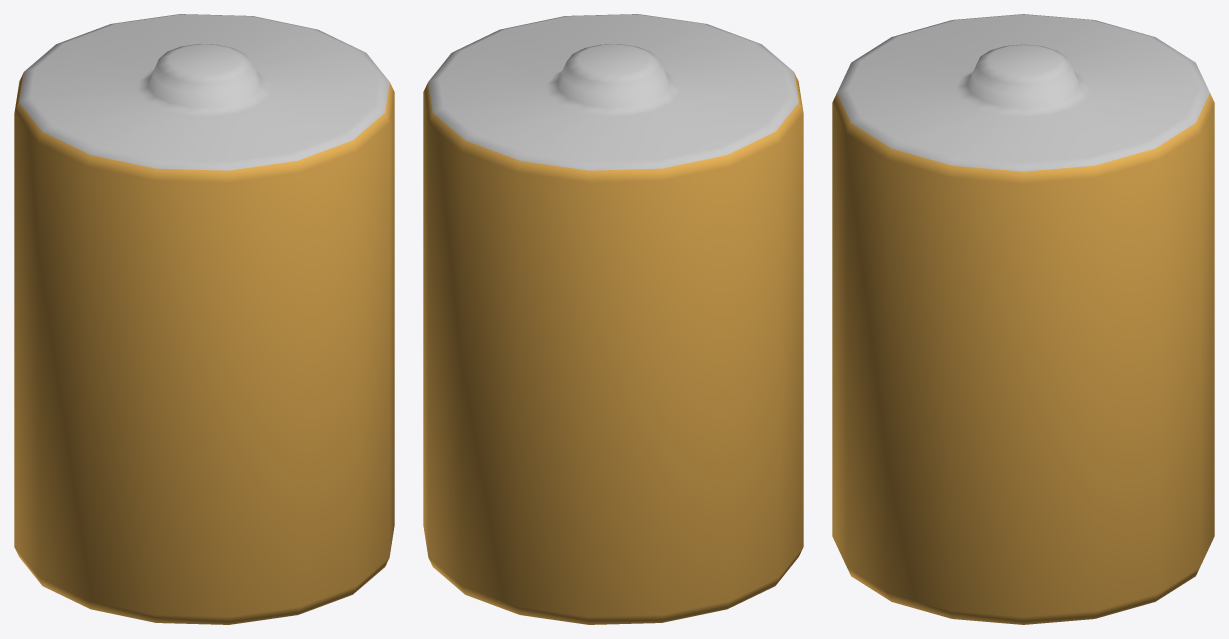
Rendered from battery.glb.
3 views of the same model, side by side, from view 1: azimuth 30°, elevation 25°; view 2: azimuth 150°, elevation 25°; view 3: azimuth 270°, elevation 25° (orthographic).
Parts seen in each view (by area): view 1: Cylinder; view 2: Cylinder; view 3: Cylinder.
Part boxes in pixels (bbox=[...]): Cylinder: bbox=[14, 14, 394, 624]; Cylinder: bbox=[423, 14, 803, 624]; Cylinder: bbox=[832, 14, 1214, 624].
Bounding box in the file's own units: 0.2562 × 0.3622 × 0.2562.
